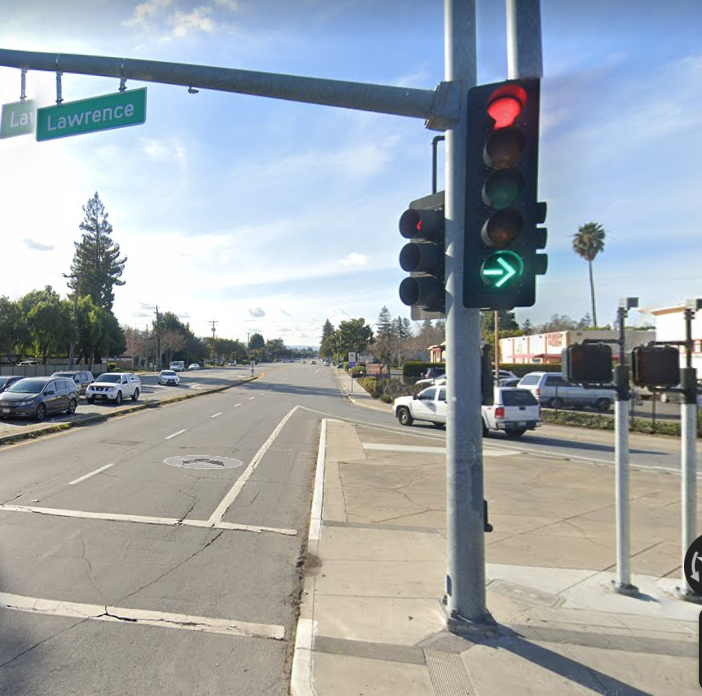red_light: (473, 83, 541, 246)
